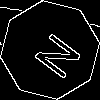N: (25, 25, 84, 82)
